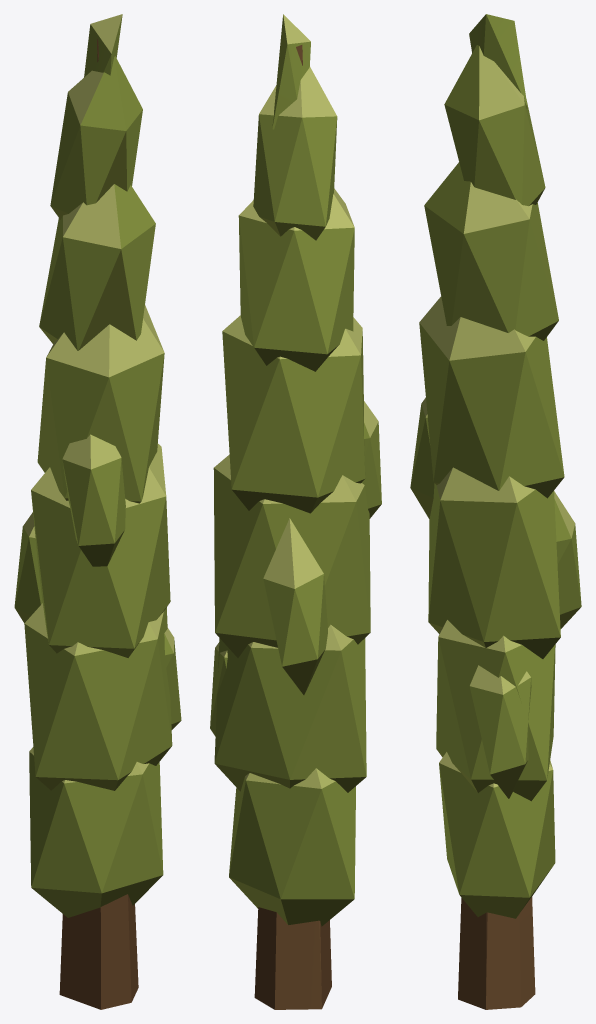
3 views of the same model, side by side, from view 1: azimuth 30°, elevation 25°; view 2: azimuth 150°, elevation 25°; view 3: azimuth 270°, elevation 25° (orthographic).
Parts seen in each view (by area): view 1: WK_Tree_Cypress_GoldenColumnar_LOD1_Balanced; view 2: WK_Tree_Cypress_GoldenColumnar_LOD1_Balanced; view 3: WK_Tree_Cypress_GoldenColumnar_LOD1_Balanced.
Boxes of the visible parts, x1,y1,x2,y2 form: WK_Tree_Cypress_GoldenColumnar_LOD1_Balanced: (14, 14, 181, 1009); WK_Tree_Cypress_GoldenColumnar_LOD1_Balanced: (210, 14, 381, 1009); WK_Tree_Cypress_GoldenColumnar_LOD1_Balanced: (410, 14, 581, 1009).
Size of the model in its own units: 1.24 by 7.91 by 1.24.
